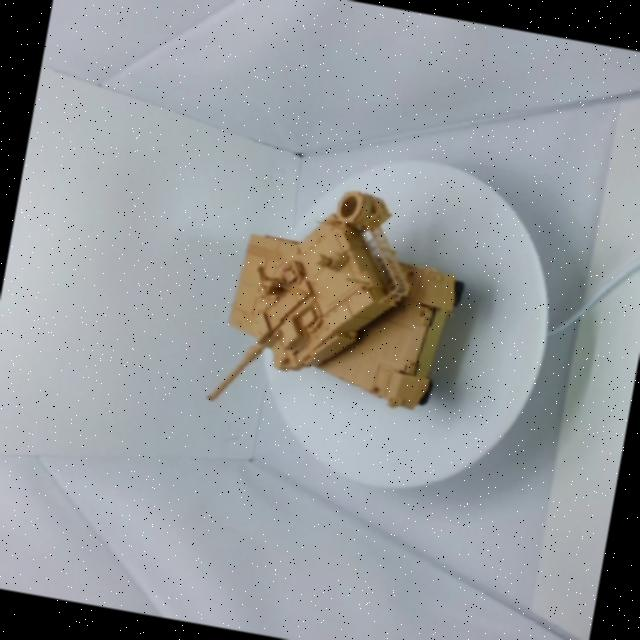korea tank: (152, 138, 500, 513)
